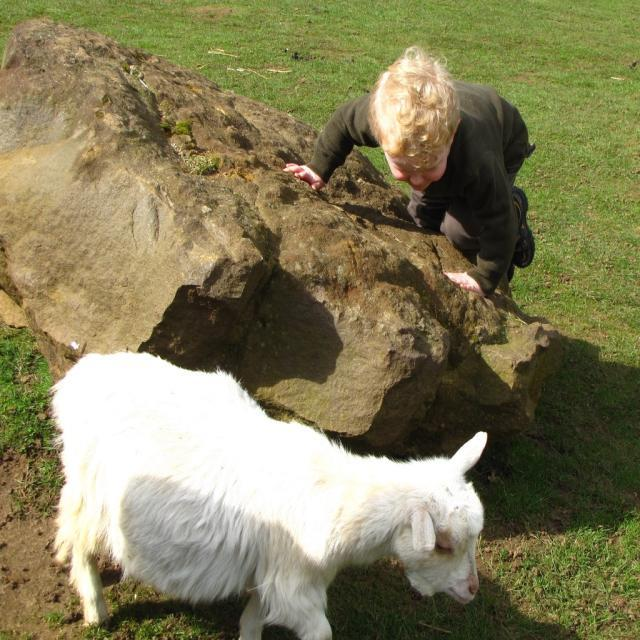Goat: (47, 348, 488, 639)
